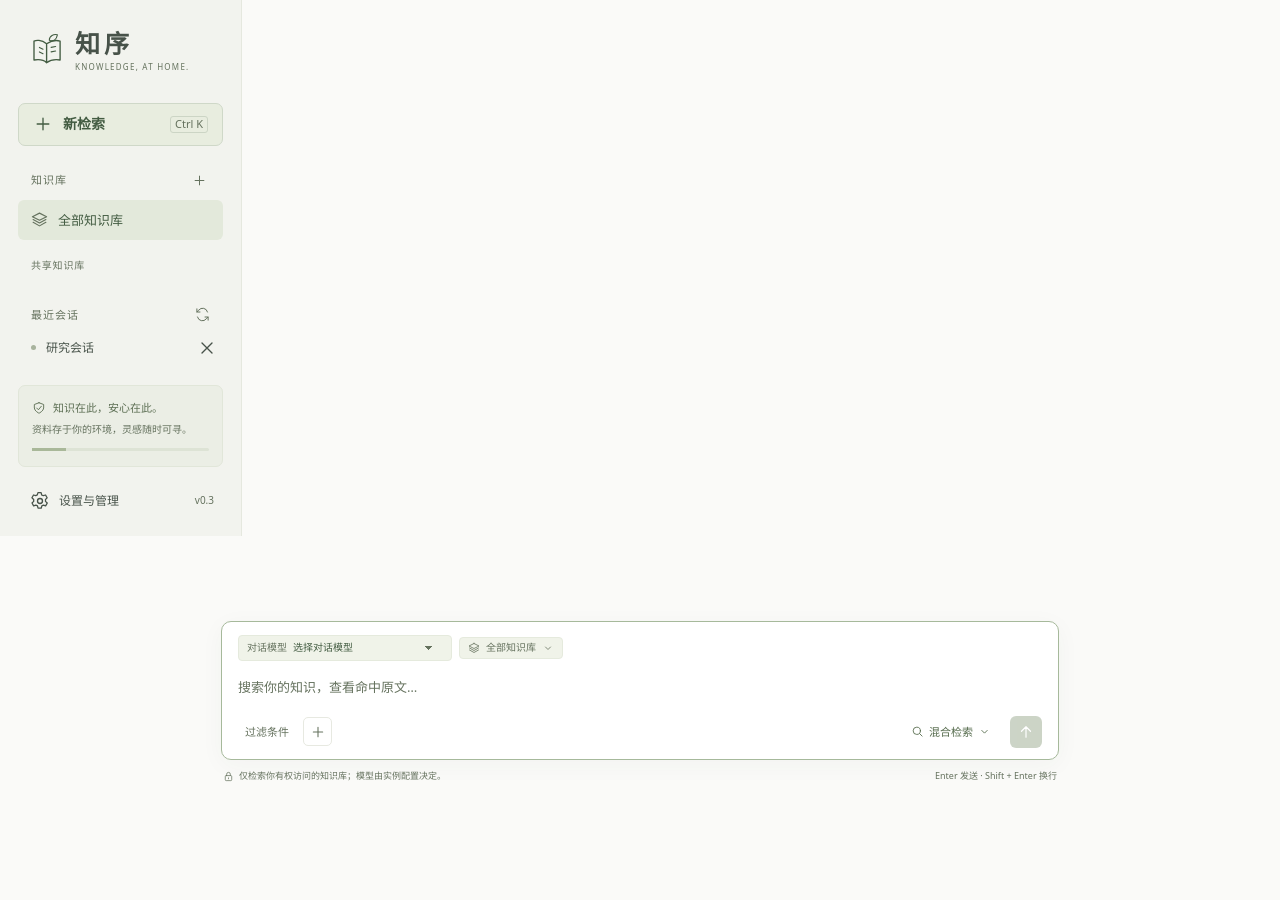
Test case: 恢复会话自己的模式、模型、过滤和所选上下文，编辑后保存供下次恢复
Click the button "研究会话" at coordinates (104, 348), box [18, 331, 191, 365]
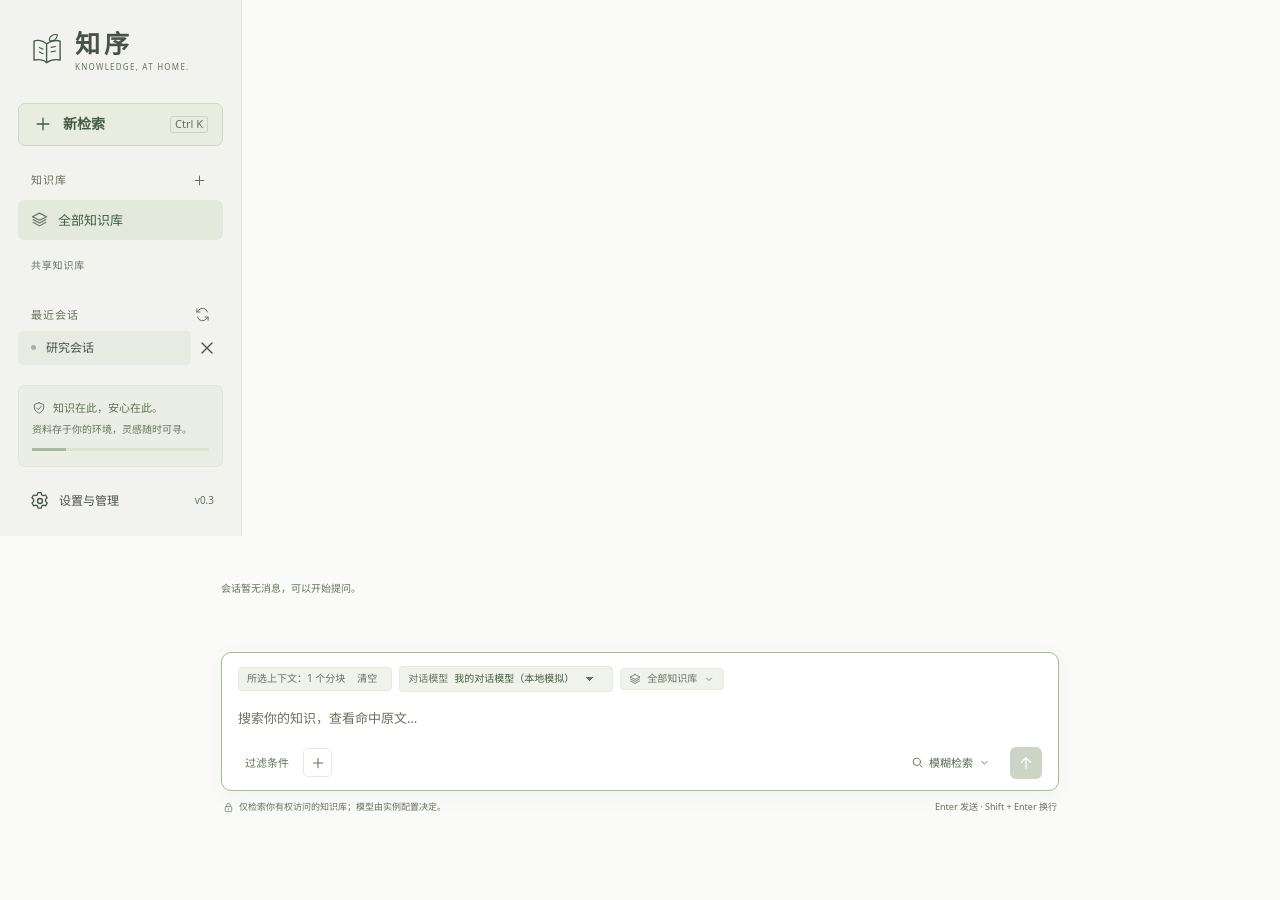
Expected: the button "模糊检索" is shown, [904, 750, 998, 775]
Expected: the dropdown labelled "对话模型" shows "我的对话模型（本地模拟）", [454, 671, 604, 687]
Expected: the text "所选上下文：1 个分块" is shown, [238, 667, 392, 691]
Click the button "过滤条件" at coordinates (267, 763), box [238, 750, 296, 775]
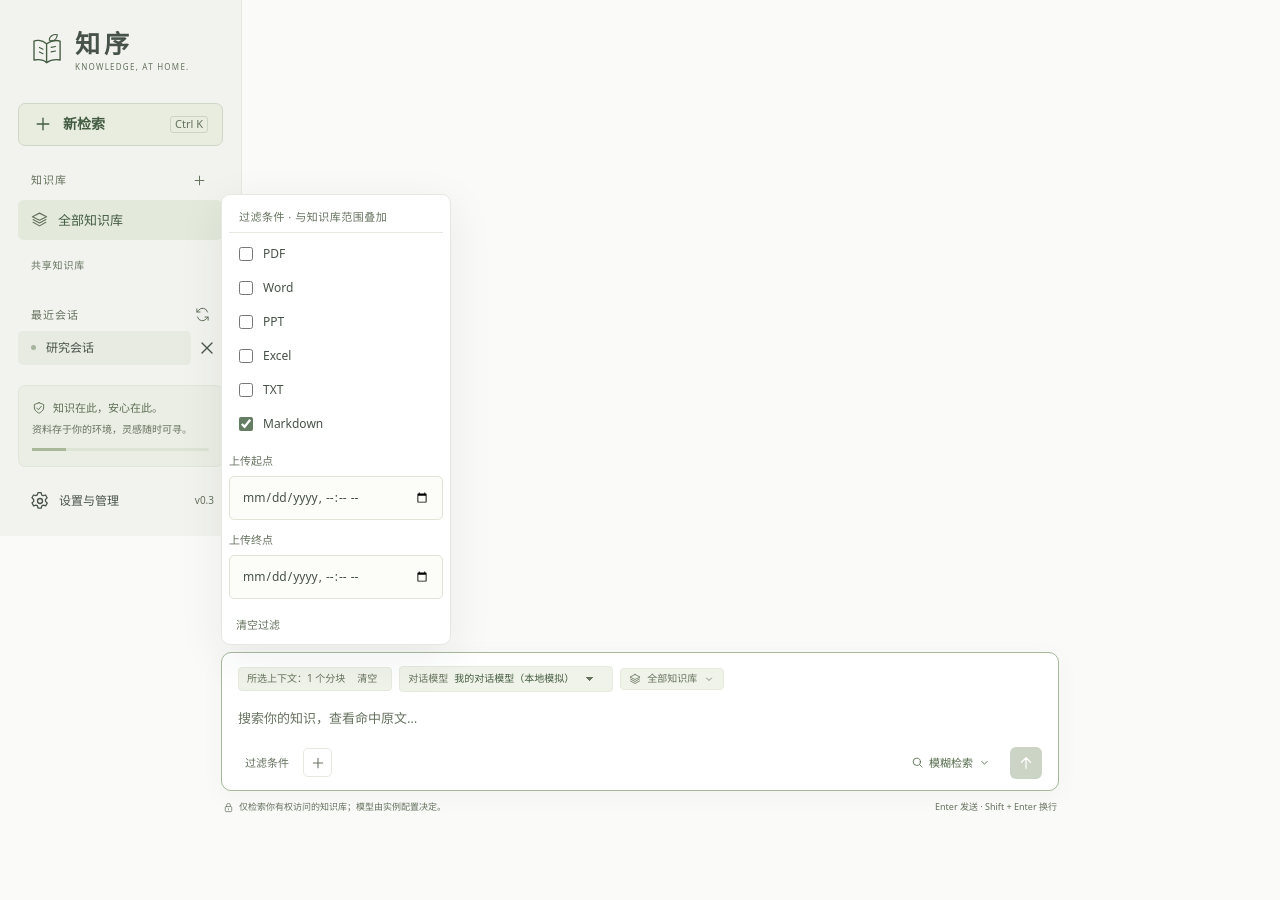
Expected: the checkbox labelled "Markdown" is checked, [239, 417, 253, 431]
Click the checkbox labelled "PDF" at coordinates (246, 254), box [239, 247, 253, 261]
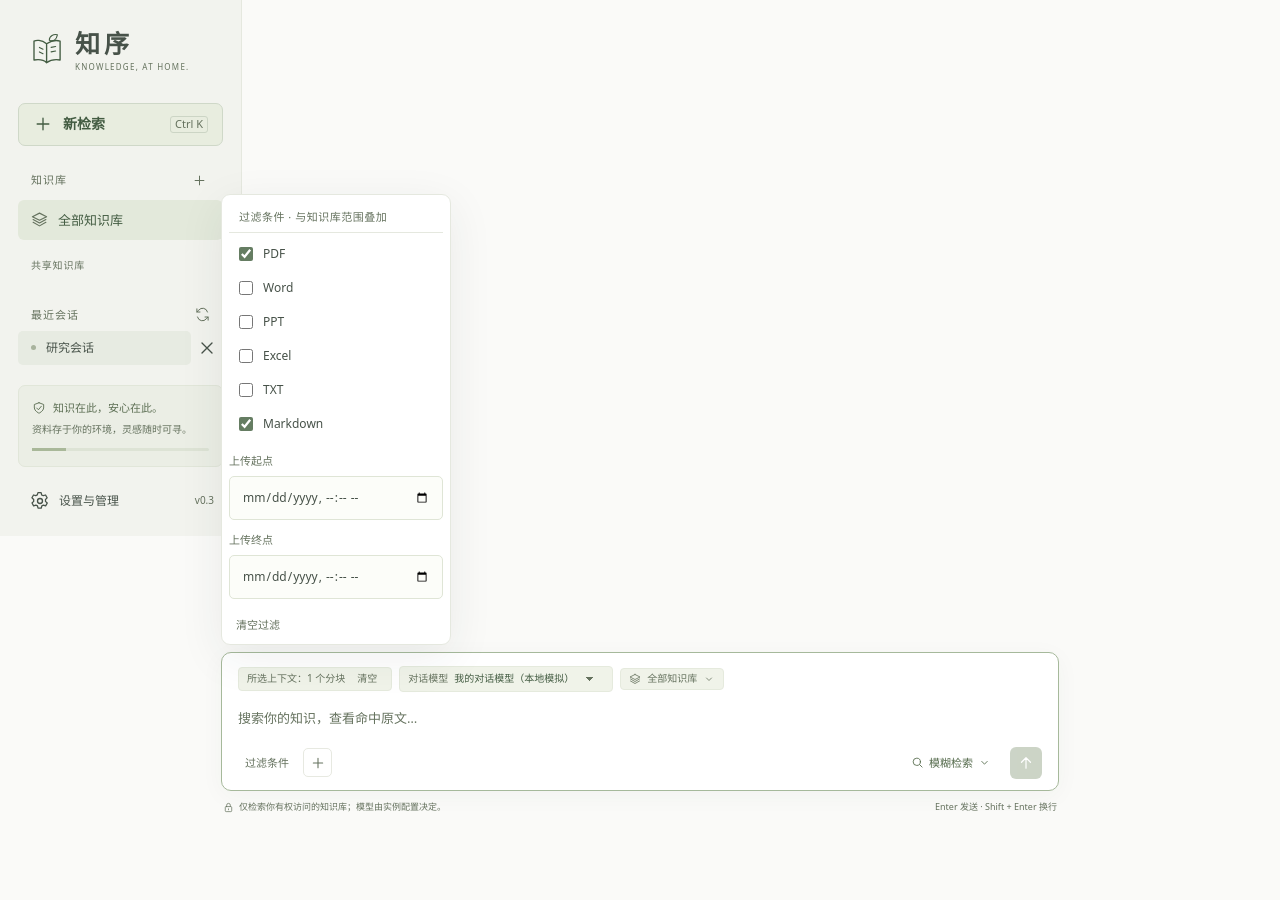
Click the button "新检索 Ctrl K" at coordinates (120, 124), box [18, 103, 223, 146]
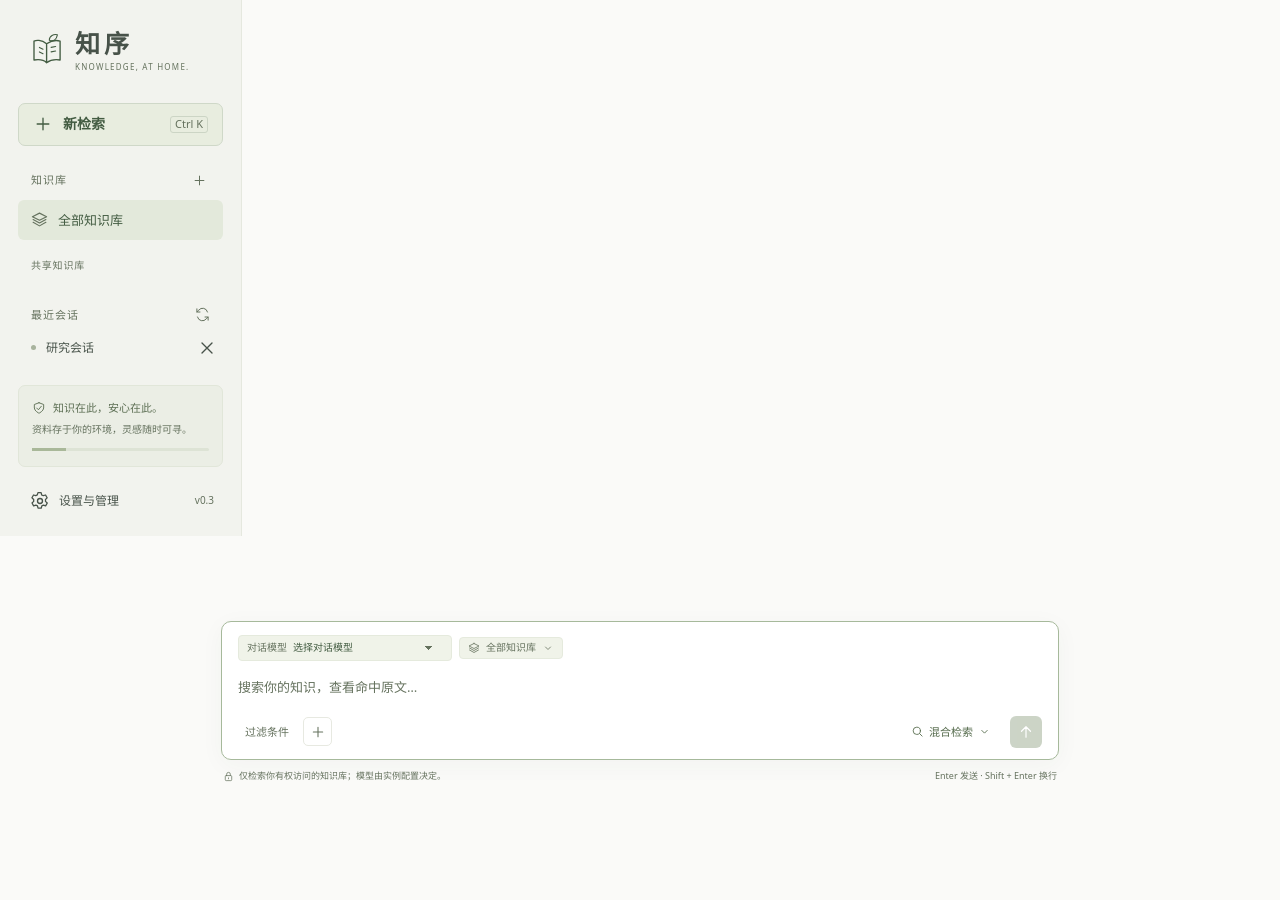
Click the button "研究会话" at coordinates (104, 348), box [18, 331, 191, 365]
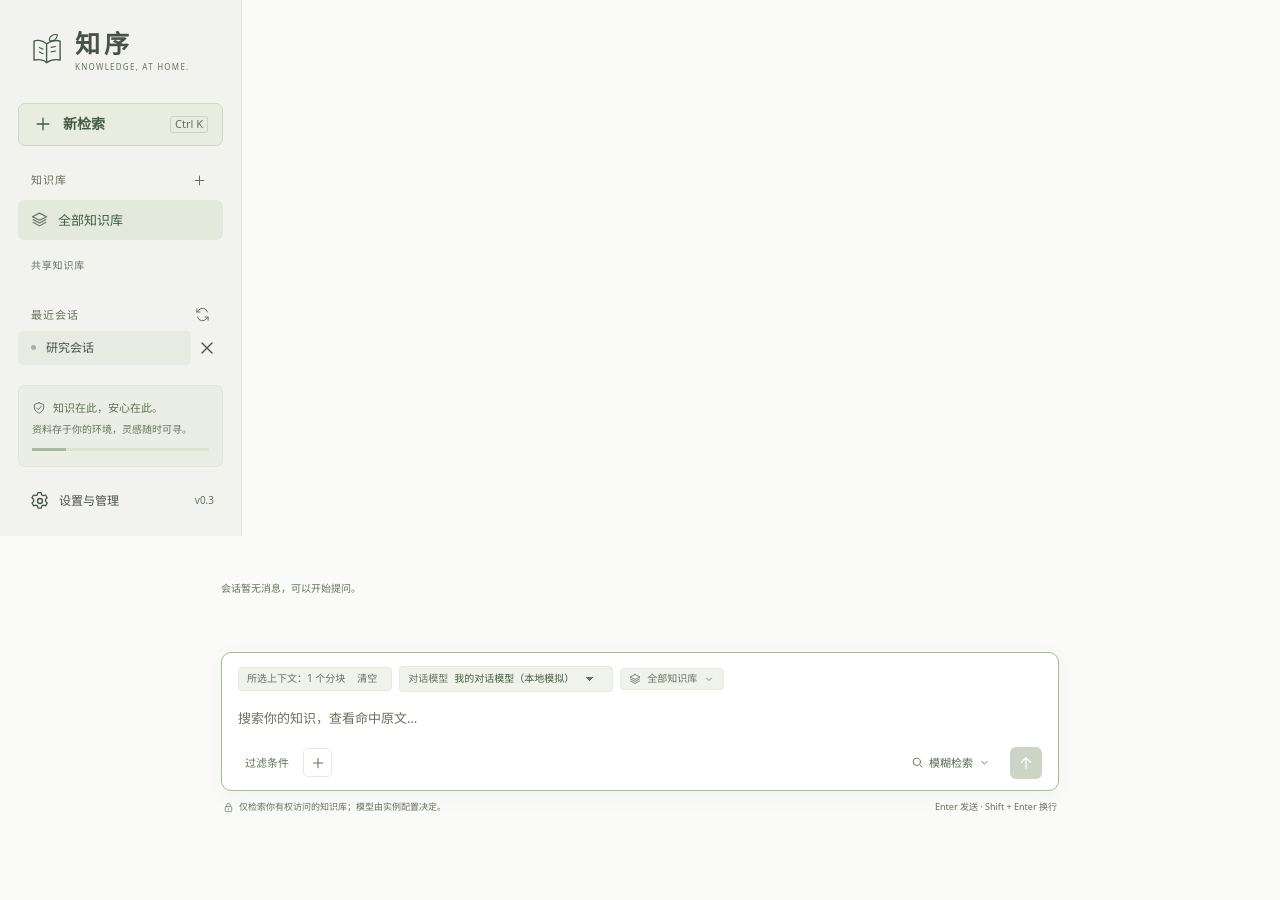
Expected: the button "模糊检索" is shown, [904, 750, 998, 775]
Click the button "过滤条件" at coordinates (267, 763), box [238, 750, 296, 775]
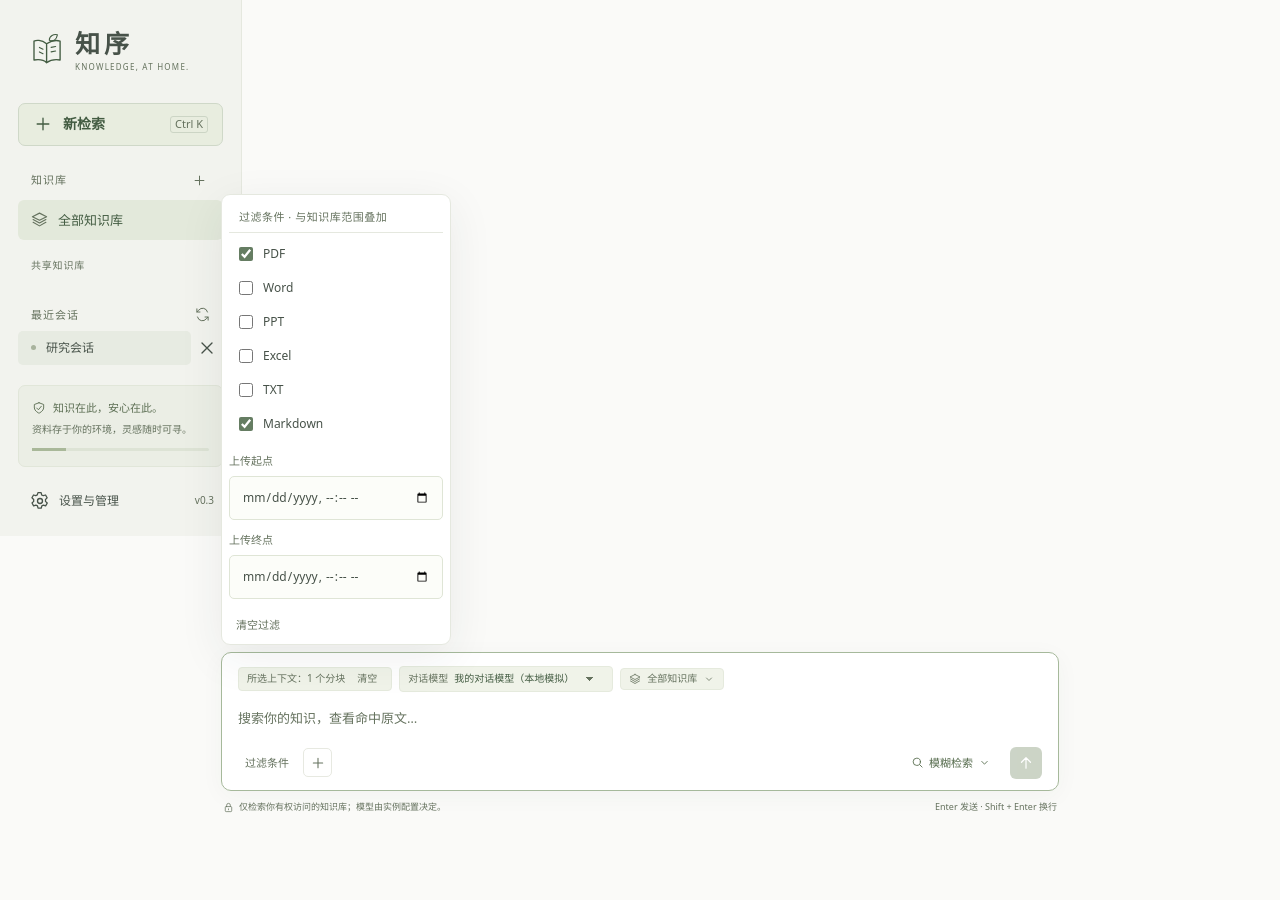
Expected: the checkbox labelled "PDF" is checked, [239, 247, 253, 261]
